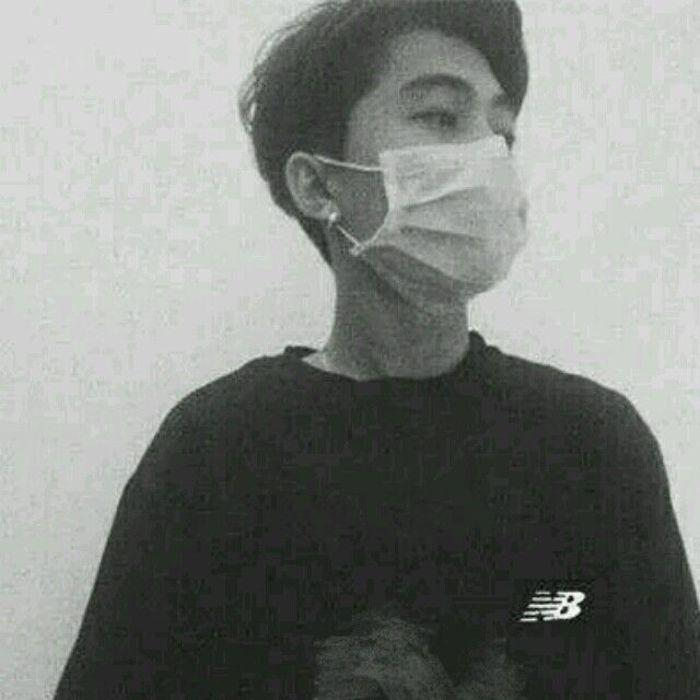OK: (324, 78, 543, 304)
